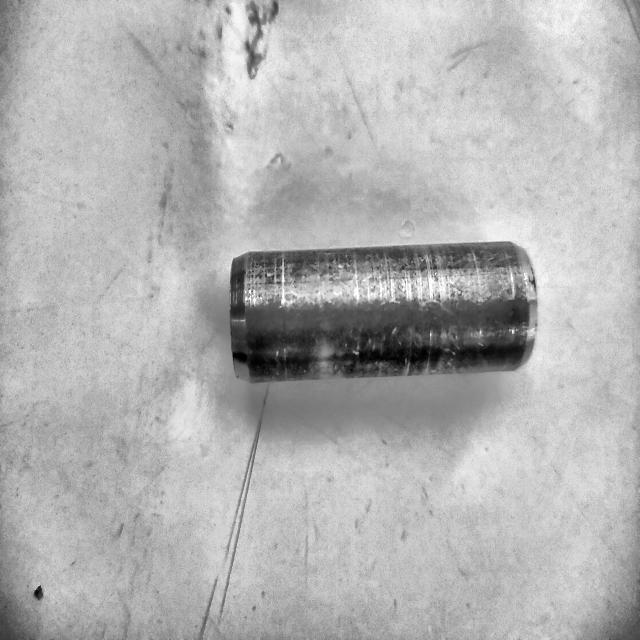Broken: (222, 238, 540, 388)
